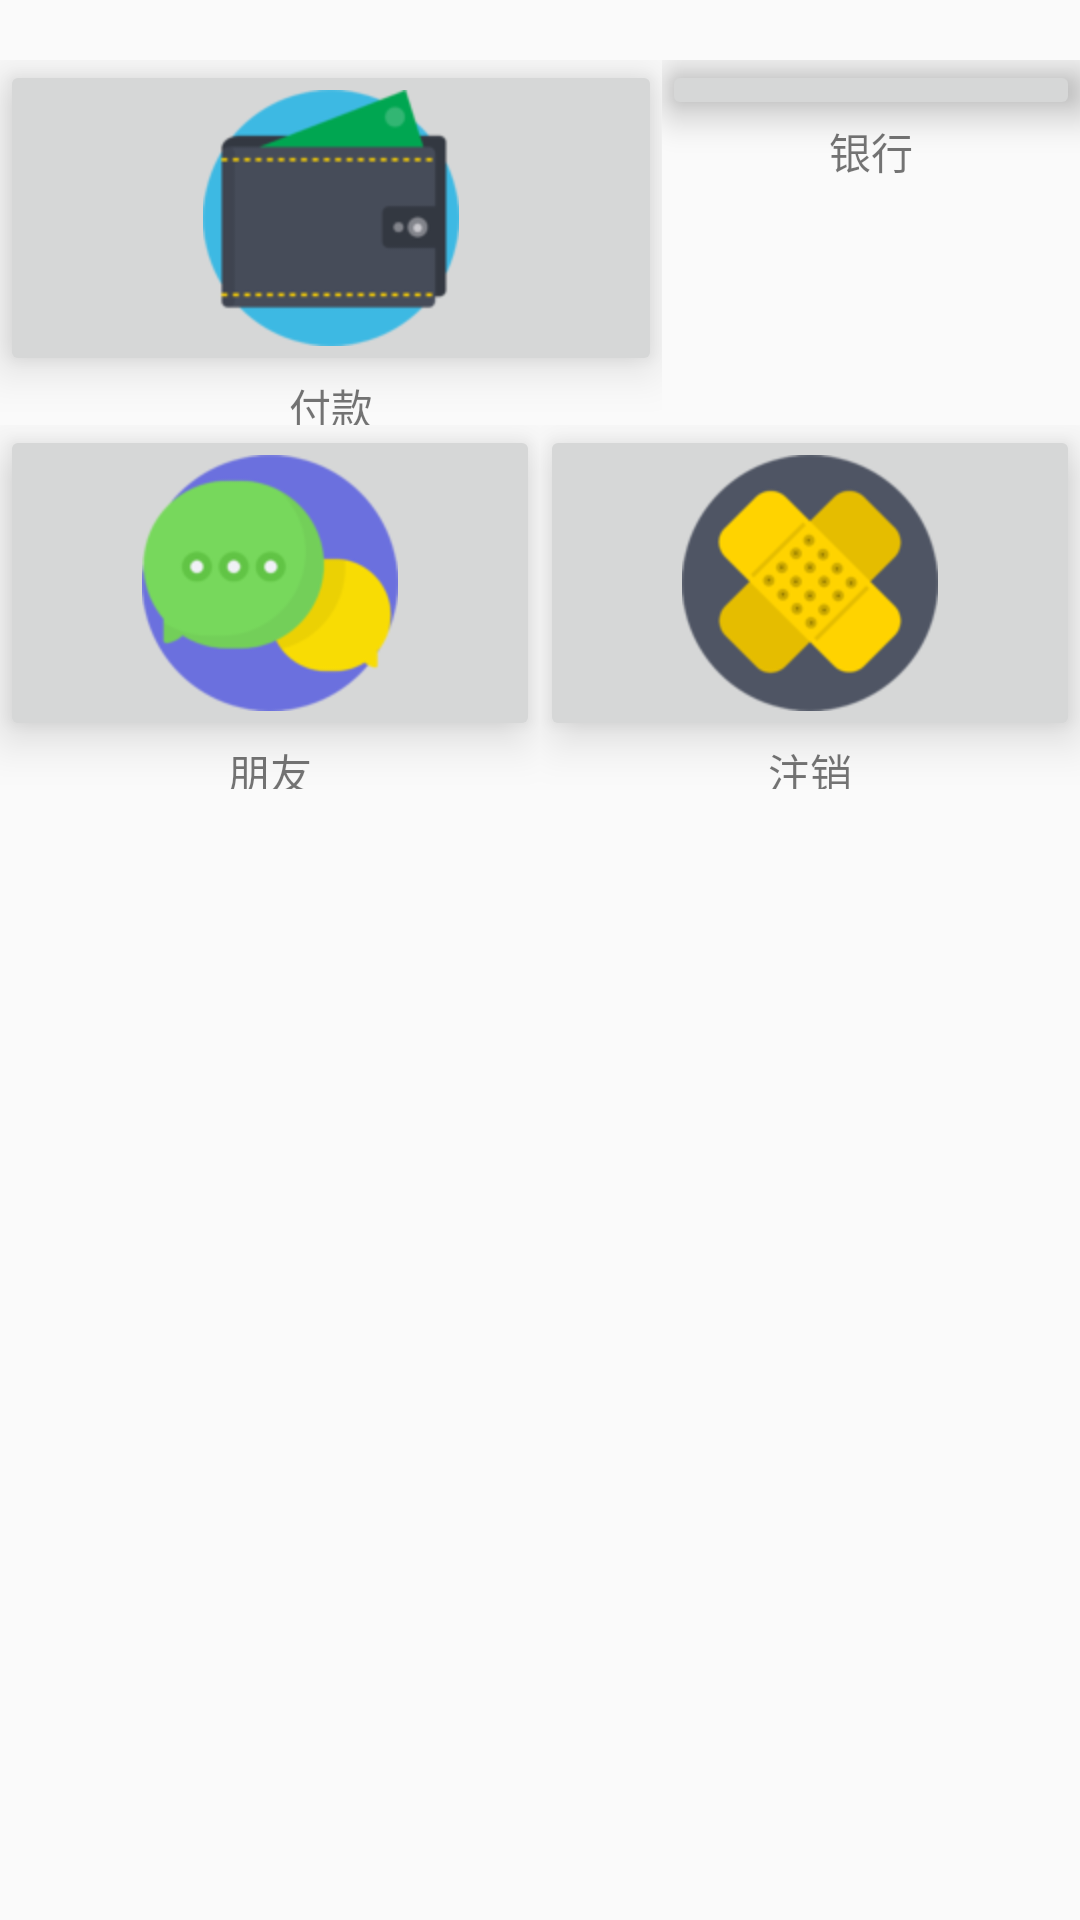

Icon click points for this 1080 x 1920 phone screenshot, format (x=x, y=y):
wallet: (x=331, y=218)
